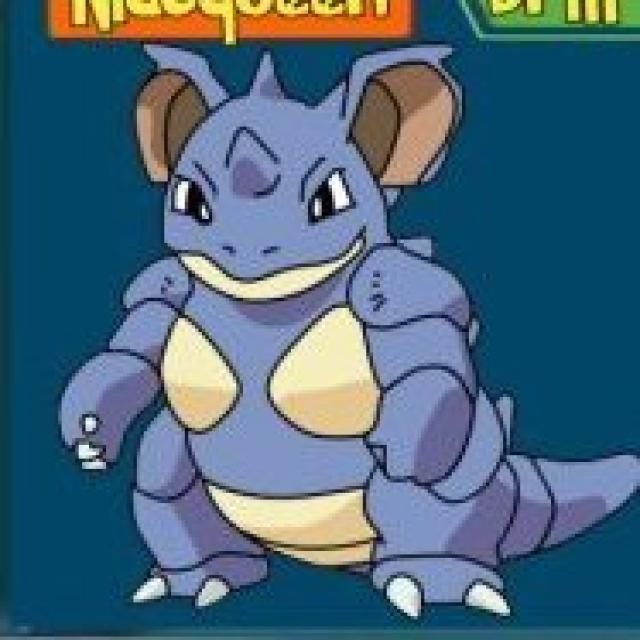Nidoqueen: (56, 48, 560, 619)
